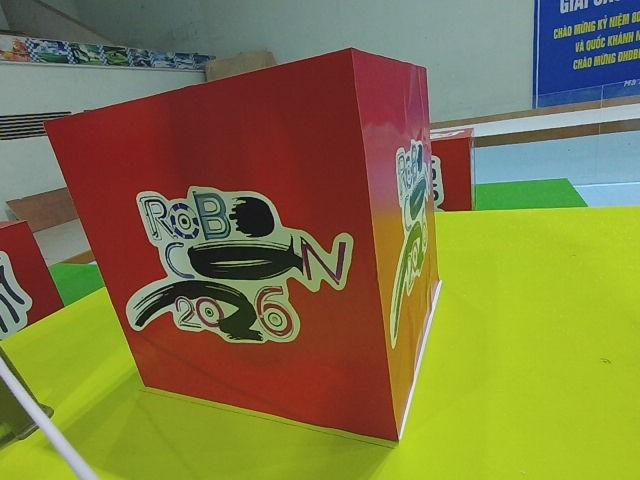R1: (44, 46, 438, 445)
